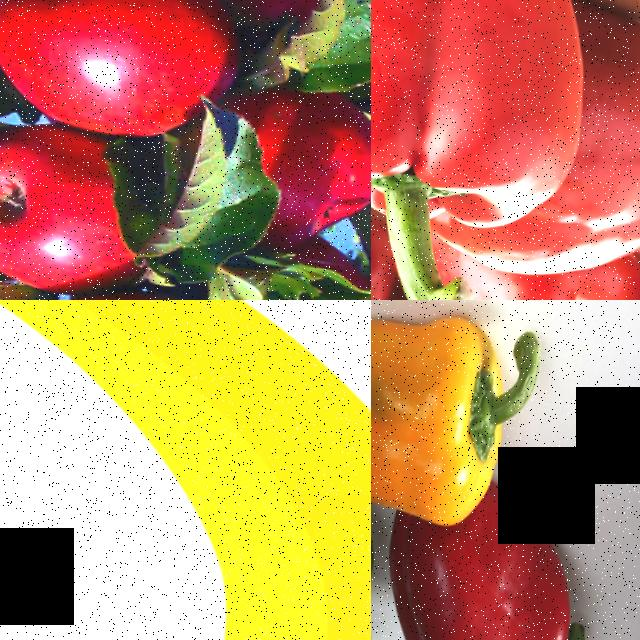apple: (0, 0, 258, 158), (0, 104, 187, 300), (225, 70, 371, 254), (249, 228, 371, 300)
banana: (0, 300, 371, 640)
bell pepper: (371, 0, 600, 225), (371, 300, 541, 521), (395, 521, 600, 640), (585, 0, 640, 260), (460, 241, 640, 300)
